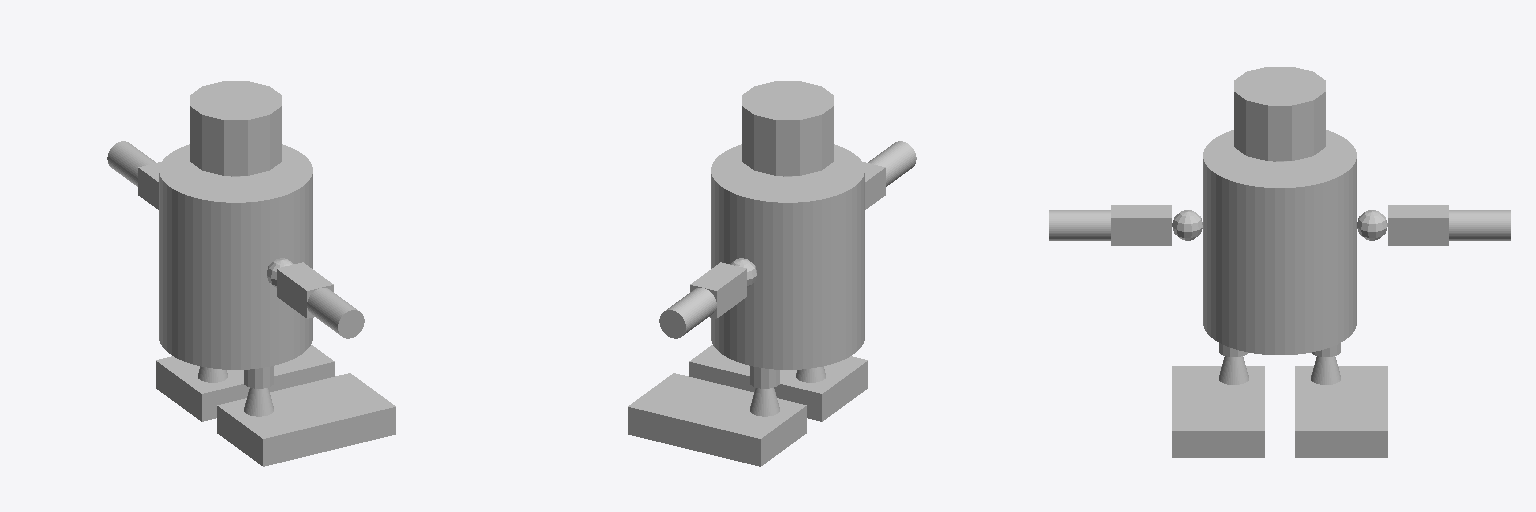
The model's file is Character.obj.
3 renders of one model, left to right at view 1: azimuth 30°, elevation 25°; view 2: azimuth 150°, elevation 25°; view 3: azimuth 270°, elevation 25°, orthographic.
Parts seen in each view (by area): view 1: cylinder, cuboid, cone; view 2: cylinder, cuboid, cone; view 3: cylinder, cuboid, sphere, cone.
Boxes of the visible parts, x1=… form: cylinder: x1=107, y1=81, x2=364, y2=388; cuboid: x1=138, y1=162, x2=395, y2=466; cone: x1=198, y1=366, x2=273, y2=416; cylinder: x1=659, y1=81, x2=916, y2=388; cuboid: x1=628, y1=162, x2=885, y2=466; cone: x1=750, y1=366, x2=825, y2=416; cylinder: x1=1049, y1=67, x2=1510, y2=356; cuboid: x1=1111, y1=205, x2=1448, y2=457; sphere: x1=1172, y1=161, x2=1387, y2=240; cone: x1=1219, y1=356, x2=1340, y2=384.
Size of the model in its own units: 0.8125 by 1.44 by 1.88.